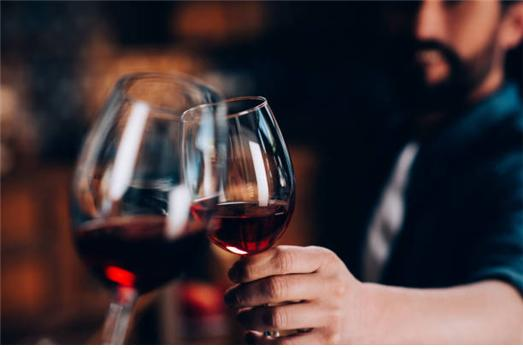alcohol: (69, 68, 218, 340), (180, 98, 296, 338)
